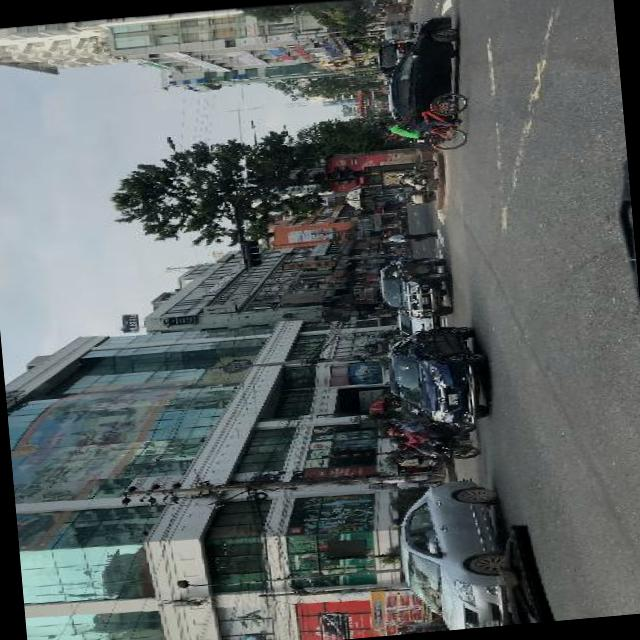car: (391, 470, 516, 632), (387, 324, 493, 427), (376, 252, 455, 320), (396, 315, 436, 333), (392, 192, 402, 202)
motorcycle: (388, 418, 486, 462), (400, 156, 436, 202), (382, 20, 416, 40), (379, 0, 412, 14), (382, 16, 408, 24)
truck: (376, 39, 412, 67)
